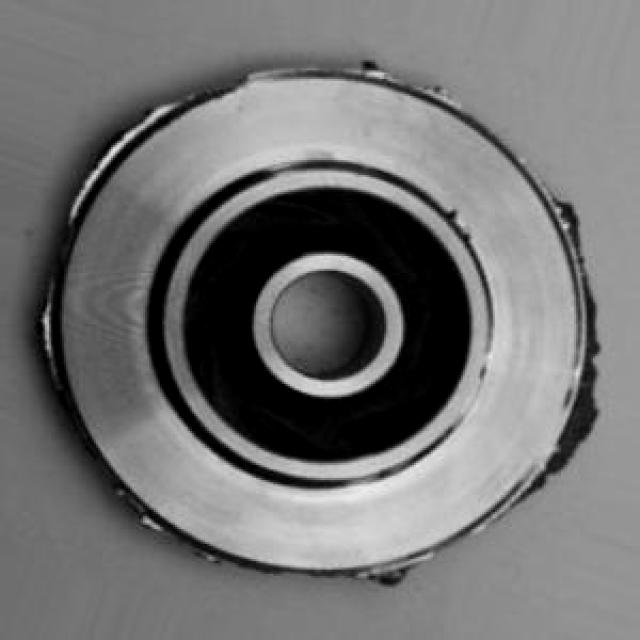Defect: (564, 372, 608, 458)
